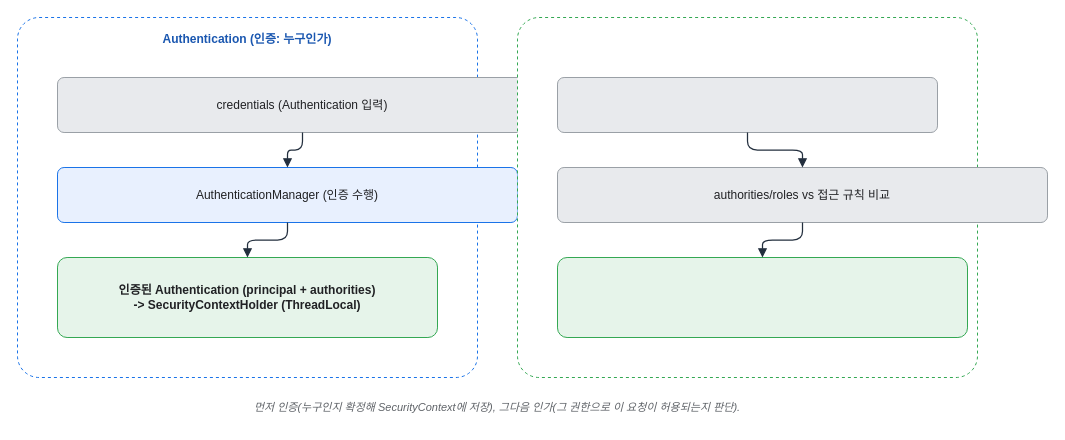
The diagram is 1065 pixels wide and 440 high, and some of its shapes have lost their labels. The shapes that lost their labels are listed below. From the top down, each one's box as (x1, y1, x2, y2) in pixels, then its label:
(556, 76, 938, 132): AuthorizationFilter
(516, 16, 978, 378): Authorization (인가: 무엇을 허용)
(556, 256, 968, 338): 허용 또는 거부 (403 Forbidden)
